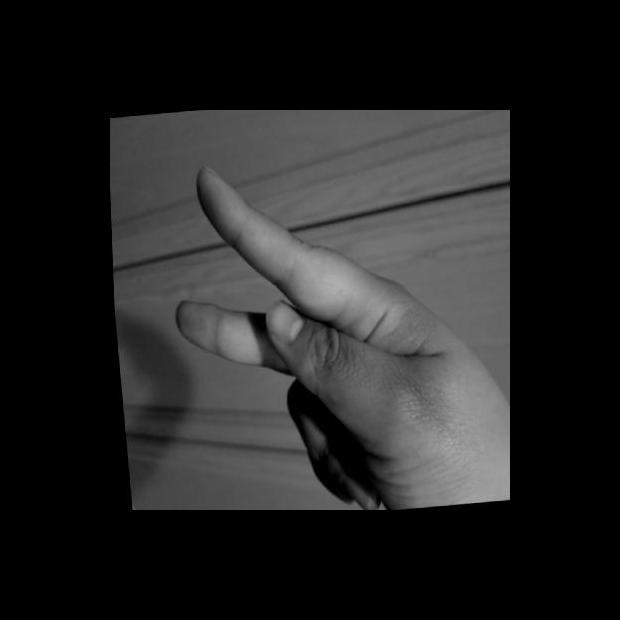O: (154, 133, 509, 509)
